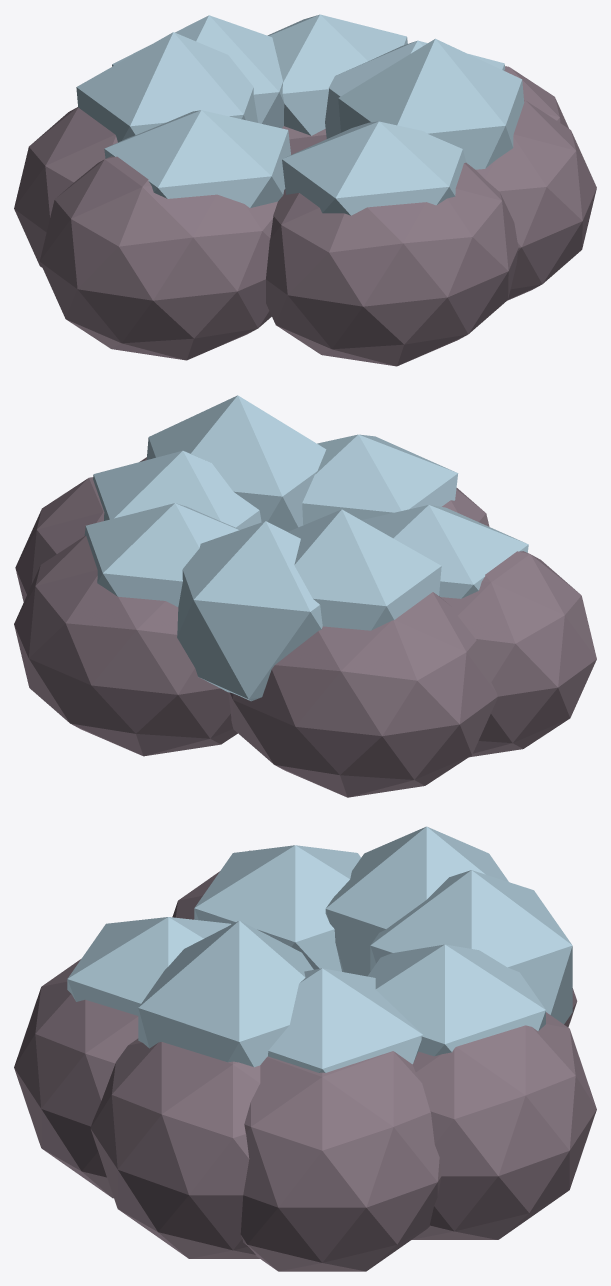
File: ore_iron.glb
3 renders of one model, top to bottom at view 1: azimuth 30°, elevation 25°; view 2: azimuth 150°, elevation 25°; view 3: azimuth 270°, elevation 25°, orthographic. The views are drawn at different scales.
Parts seen in each view (by area): view 1: Basalt cluster, Ore deposit; view 2: Basalt cluster, Ore deposit; view 3: Basalt cluster, Ore deposit.
Part boxes in pixels (x1,y1,x2,y2): Basalt cluster: (14,66,596,366); Ore deposit: (76,14,524,215); Basalt cluster: (14,457,596,797); Ore deposit: (84,395,528,701); Basalt cluster: (14,850,596,1271); Ore deposit: (67,826,572,1072).
Size of the model in its own units: 2.92 by 1.46 by 2.45.
